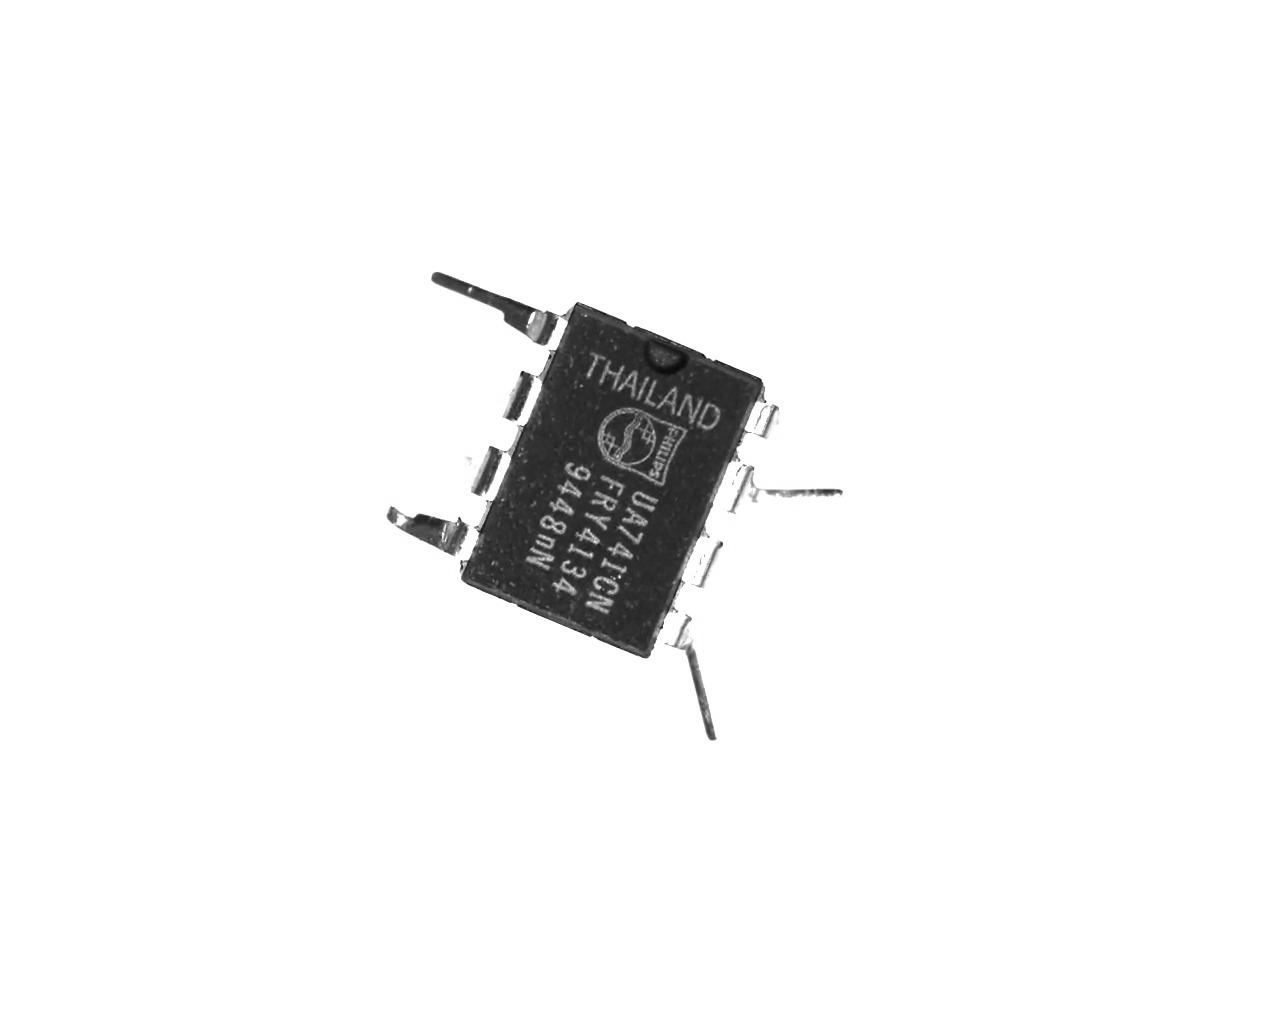Leg: (414, 257, 574, 355), (711, 444, 859, 532), (651, 599, 731, 748), (676, 525, 749, 602), (387, 507, 485, 564), (446, 443, 519, 498), (484, 367, 543, 425), (741, 401, 790, 446)
